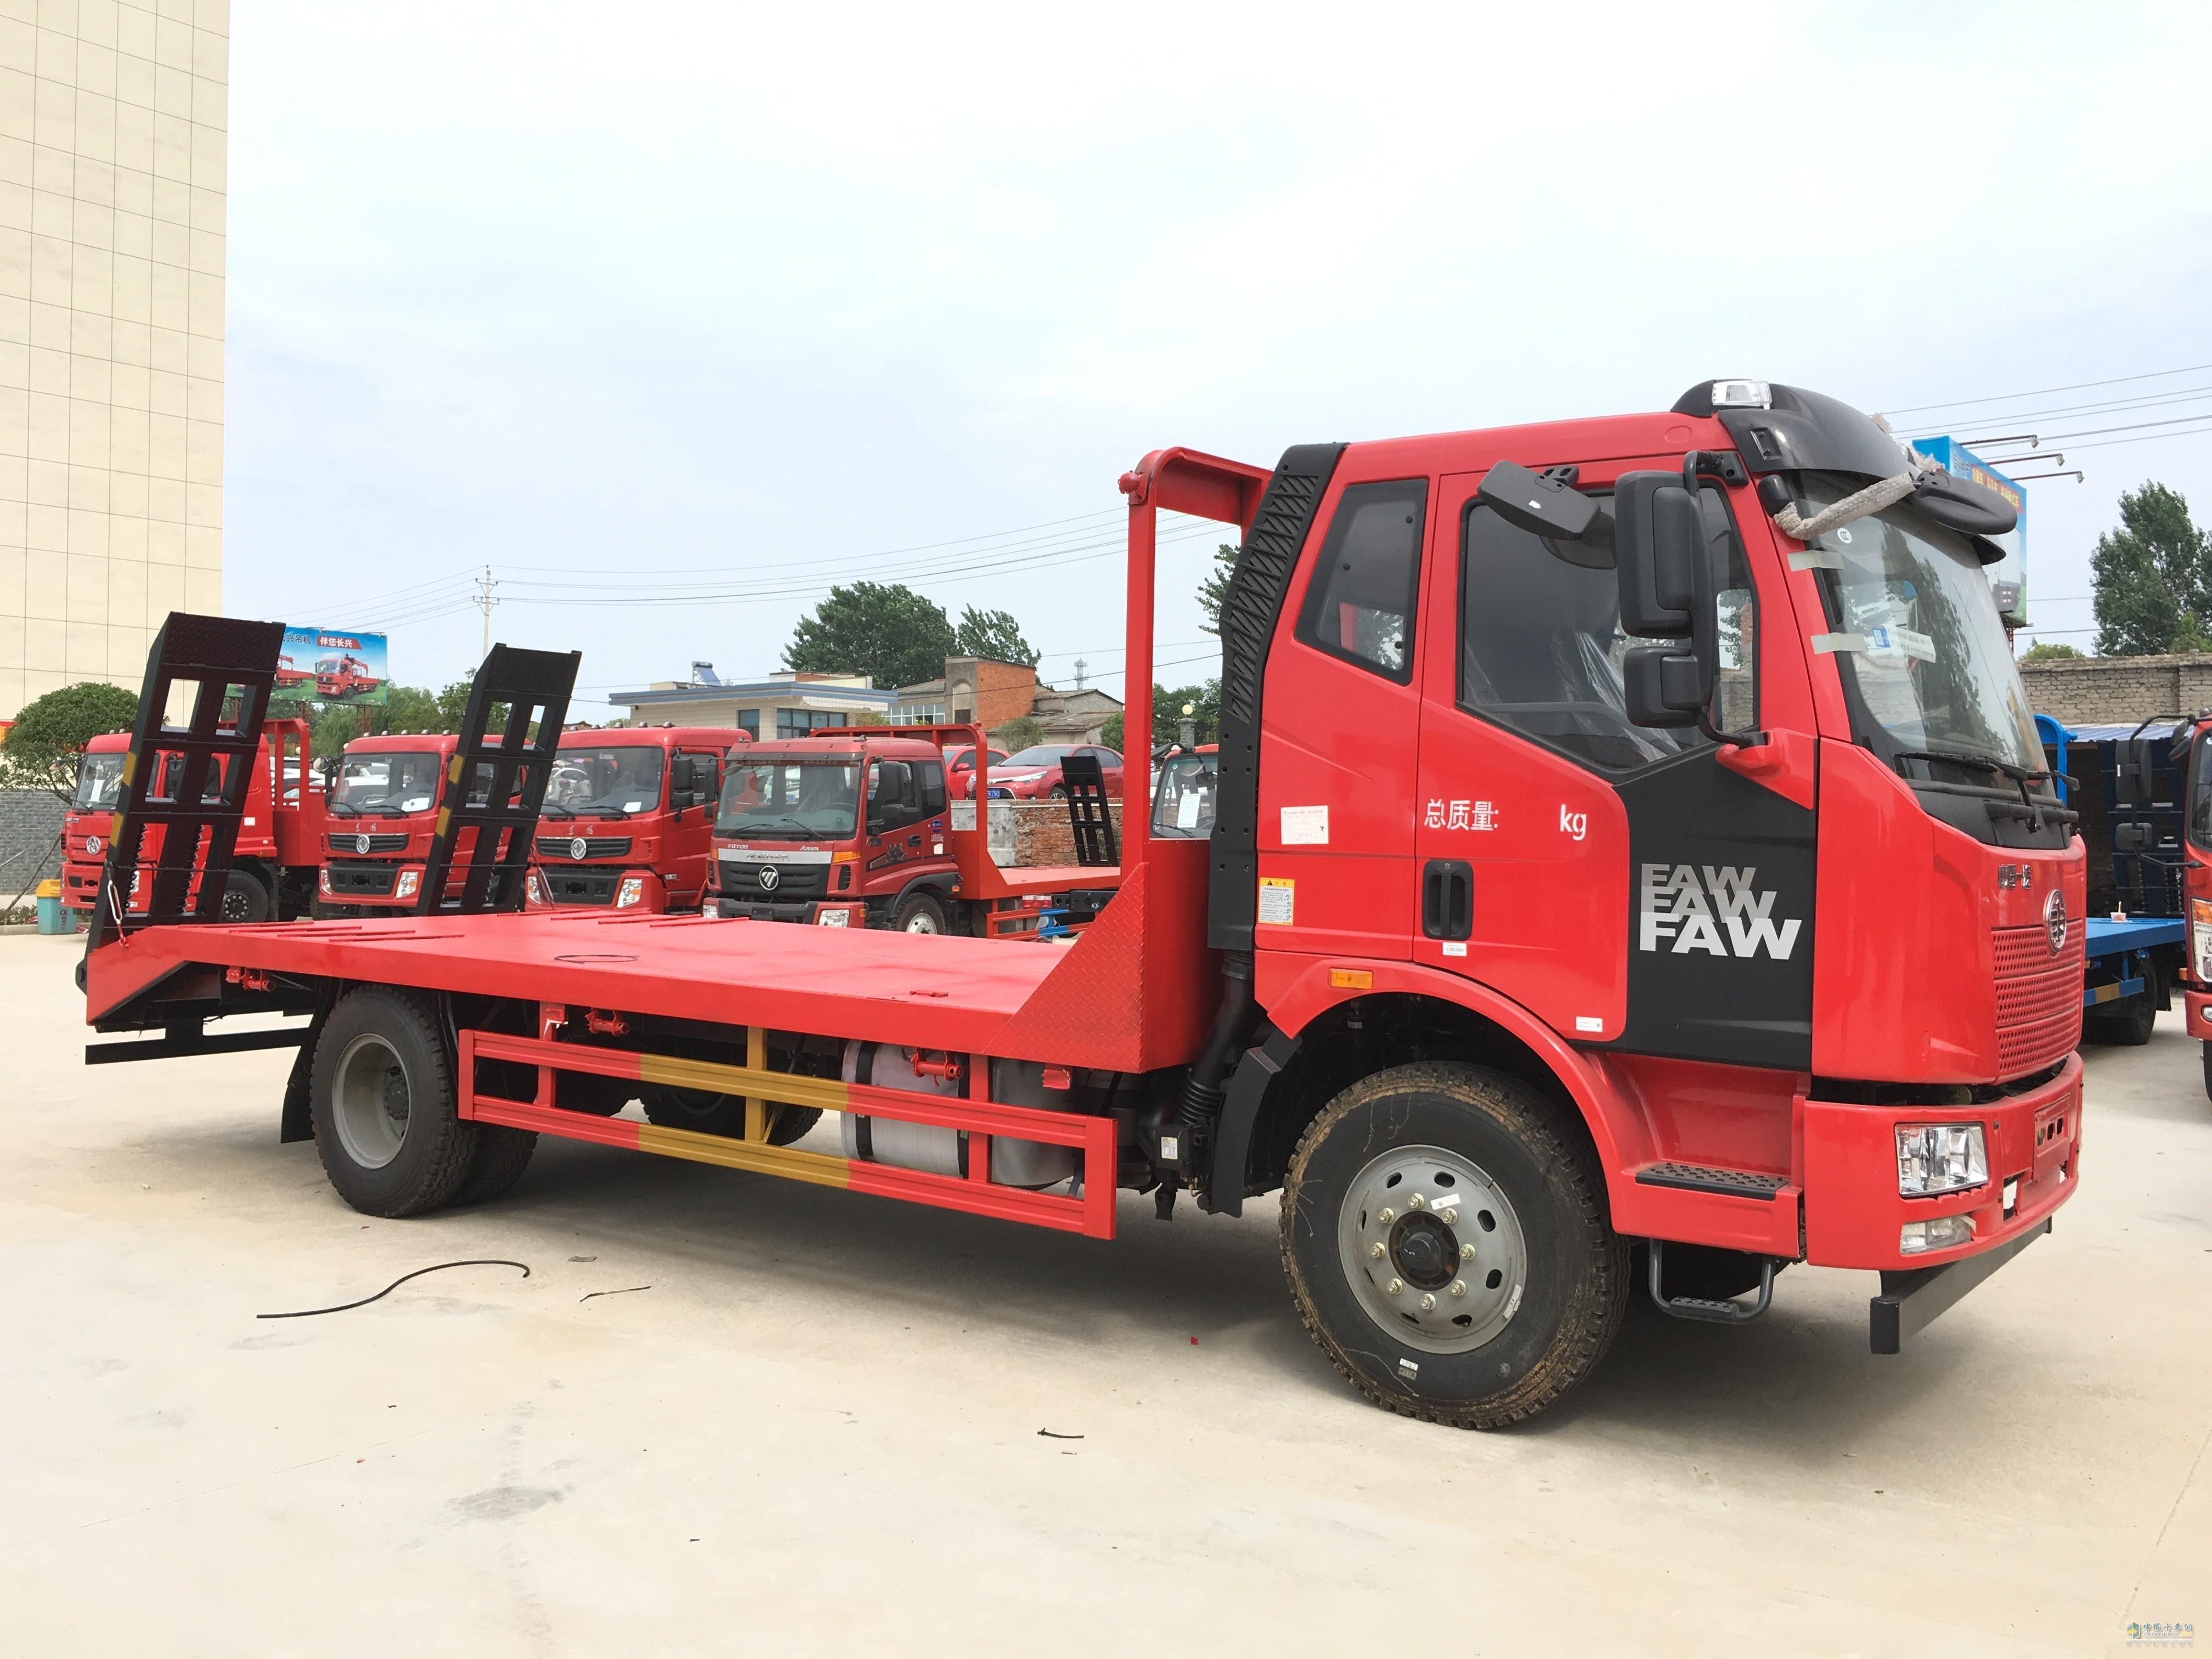truck: (71, 261, 2102, 1467)
